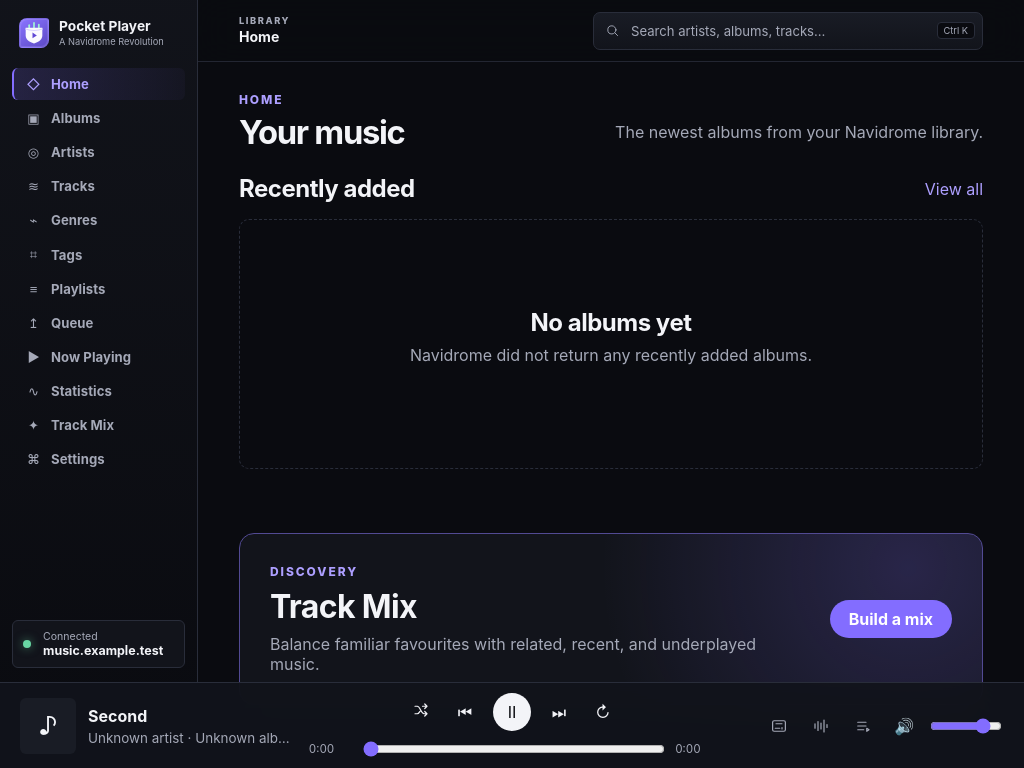
it: keeps the persistent player mounted across route navigation
Click the link "⌘ Settings": (66, 459) [27,451,105,467]
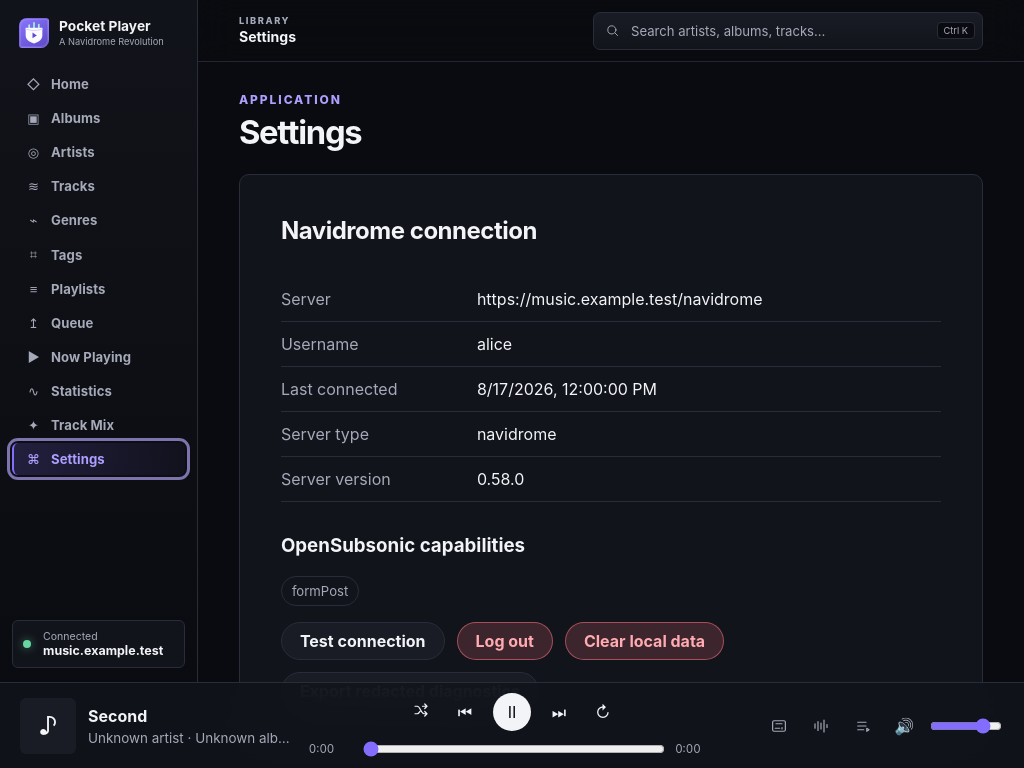
Expected: the heading "Settings" is shown, [239,115,361,150]
